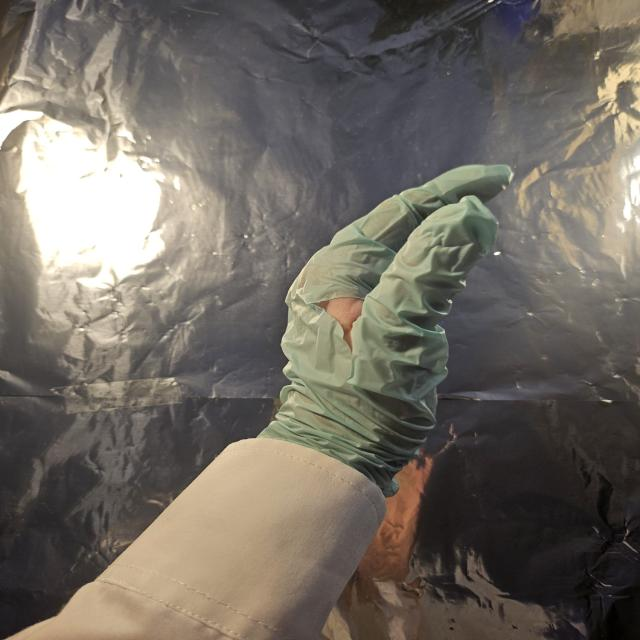gloves_damaged: (250, 162, 518, 500)
